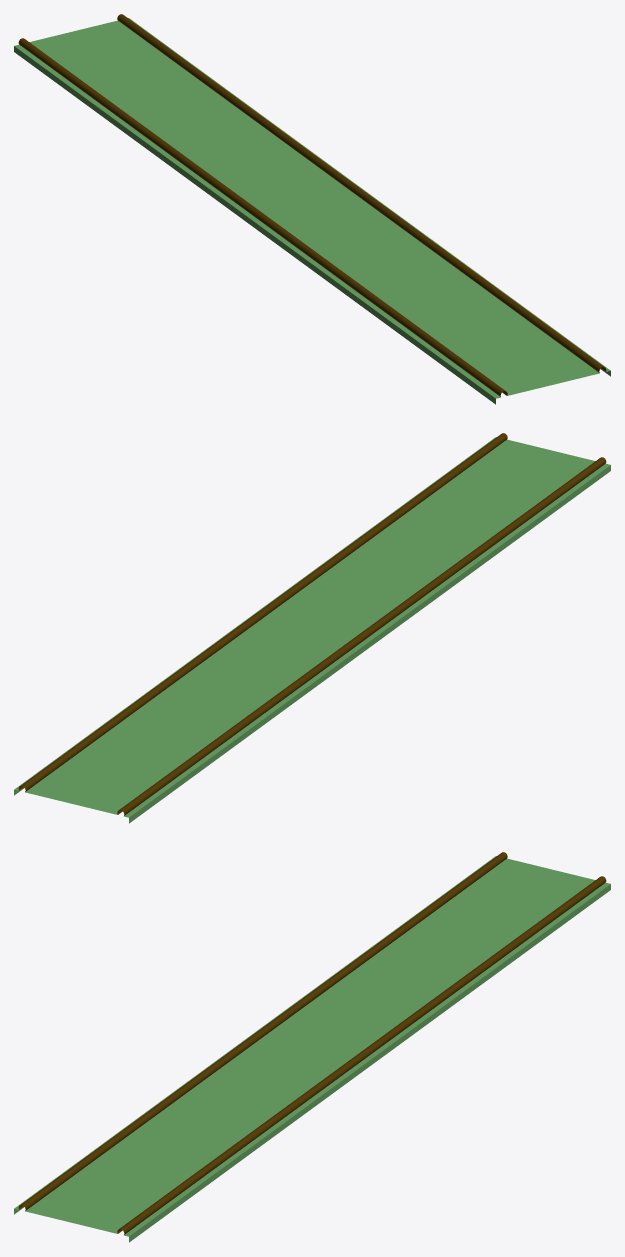
3 renders of one model, top to bottom at view 1: azimuth 30°, elevation 25°; view 2: azimuth 150°, elevation 25°; view 3: azimuth 330°, elevation 25°, orthographic.
Visible parts, largest first — view 1: Loft003; view 2: Loft003; view 3: Loft003.
Boxes of the visible parts, x1,y1,x2,y2 form: Loft003: [14, 14, 610, 404]; Loft003: [14, 433, 610, 823]; Loft003: [14, 852, 610, 1242].
Size of the model in its own units: 495 by 48.17 by 3597.
